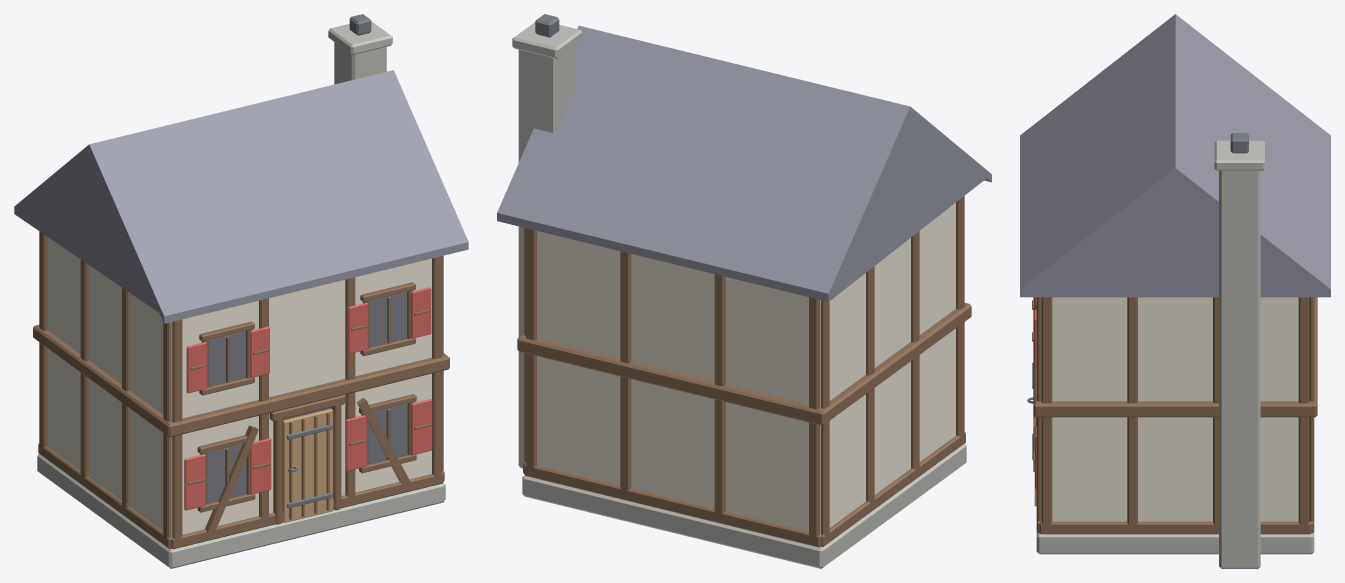
The model's file is timber-house-medium.glb.
3 renders of one model, left to right at view 1: azimuth 30°, elevation 25°; view 2: azimuth 150°, elevation 25°; view 3: azimuth 270°, elevation 25°, orthographic. The views are drawn at different scales.
Visible parts, largest first — view 1: timber-house-medium_3, timber-house-medium_1, timber-house-medium_2, timber-house-medium_0, timber-house-medium_5, timber-house-medium_4, door/wood, door/timber, door/iron; view 2: timber-house-medium_3, timber-house-medium_1, timber-house-medium_2, timber-house-medium_0; view 3: timber-house-medium_3, timber-house-medium_1, timber-house-medium_0, timber-house-medium_2.
Part boxes in pixels (x1,y1,x2,y2): timber-house-medium_3: (14,70,468,323); timber-house-medium_1: (47,237,431,537); timber-house-medium_2: (33,231,449,549); timber-house-medium_0: (37,21,445,568); timber-house-medium_5: (184,287,432,510); timber-house-medium_4: (206,14,407,503); door/wood: (282,409,333,522); door/timber: (289,412,329,519); door/iron: (287,424,332,508); timber-house-medium_3: (497,25,991,301); timber-house-medium_1: (537,203,955,534); timber-house-medium_2: (517,178,991,547); timber-house-medium_0: (512,22,966,568); timber-house-medium_3: (1020,14,1330,297); timber-house-medium_1: (1052,297,1298,521); timber-house-medium_0: (1036,140,1314,568); timber-house-medium_2: (1032,297,1317,534).
Size of the model in its own units: 7.22 by 8.76 by 5.8.
